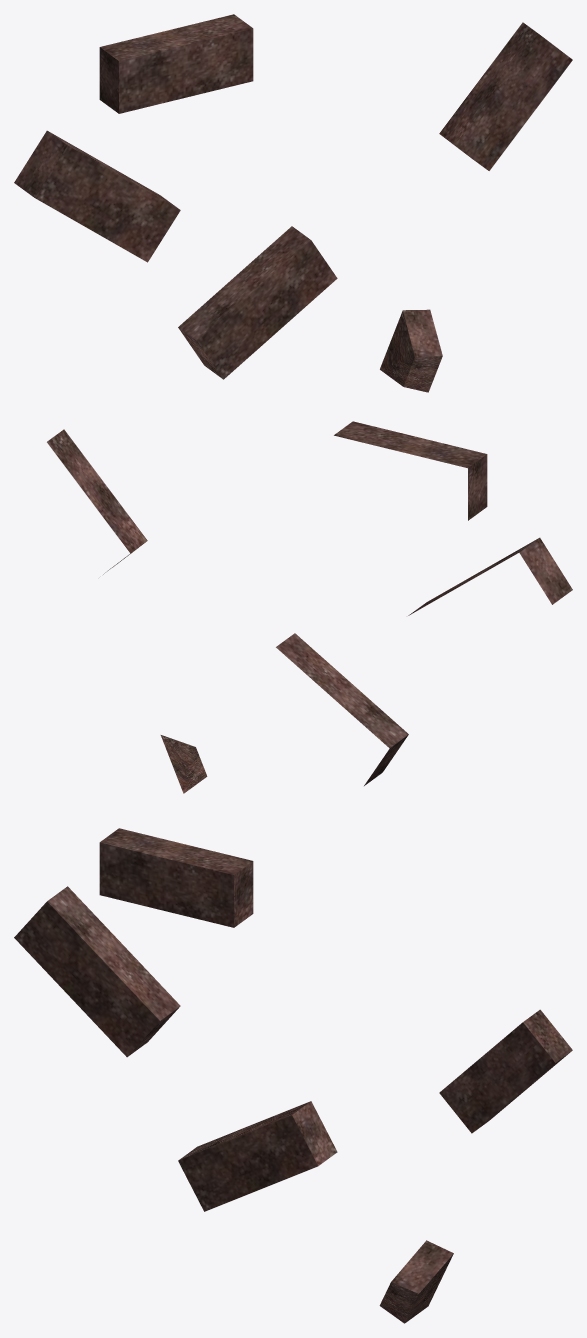
File: prop_redbrick_debris_03.glb
The picture shows the model from 3 angles, top to bottom: view 1: azimuth 30°, elevation 25°; view 2: azimuth 150°, elevation 25°; view 3: azimuth 330°, elevation 25°; orthographic projection.
Bounding box in the file's own units: 58.92 × 42.2 × 4.5.
1 material, 1 textured.
